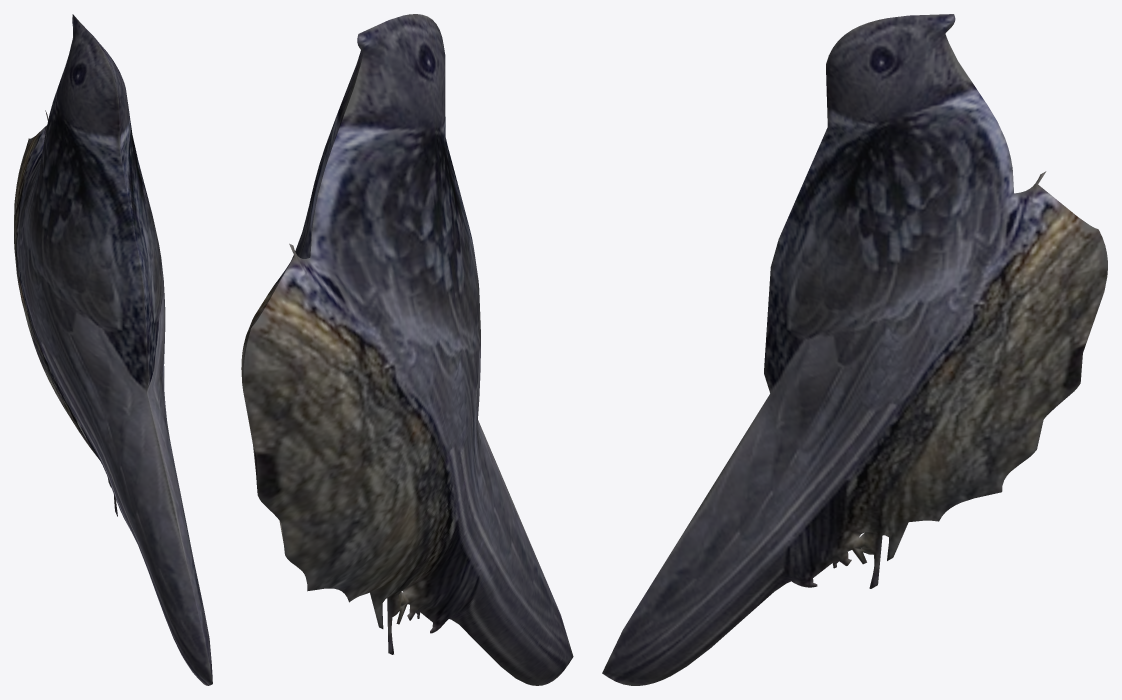
3 renders of one model, left to right at view 1: azimuth 30°, elevation 25°; view 2: azimuth 150°, elevation 25°; view 3: azimuth 270°, elevation 25°, orthographic. The views are drawn at different scales.
Parts seen in each view (by area): view 1: node1; view 2: node1; view 3: node1.
Boxes of the visible parts, x1,y1,x2,y2 form: node1: (14, 14, 212, 685); node1: (241, 14, 573, 685); node1: (602, 14, 1107, 685).
Size of the model in its own units: 0.3816 by 1.76 by 1.2.
1 material, 1 textured.
